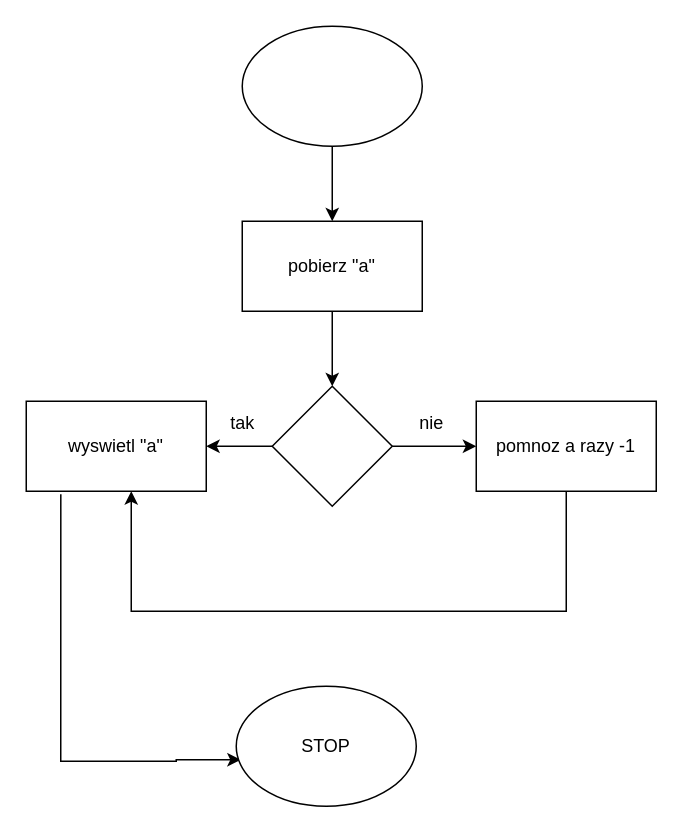
Image size: 683x833. Some labels were removed from this diagram. Each missing label, with the box of its shape:
a>0: (271, 385, 392, 506)
start: (241, 25, 422, 146)
